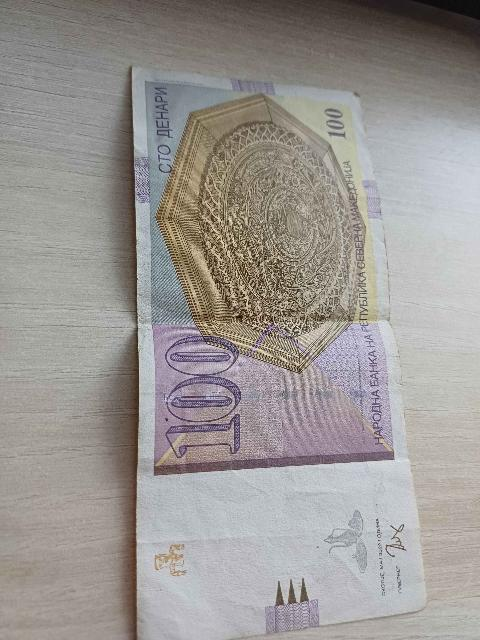note: (133, 70, 424, 639)
